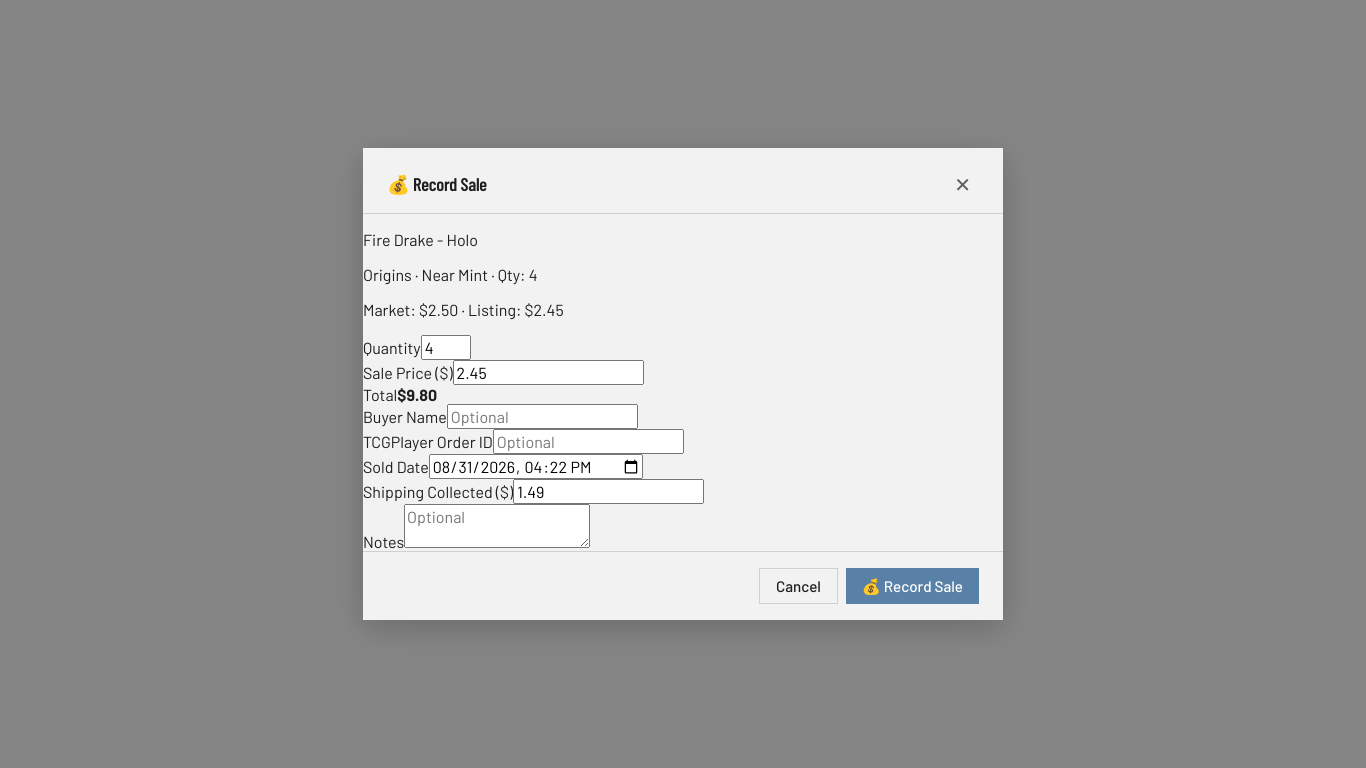
it: RecordSaleModal › validates price is greater than 0
The image size is (1366, 768).
Replace the text in the number field labelled "Sale Price ($)" with "0" at (548, 372), box [453,360,644,385]
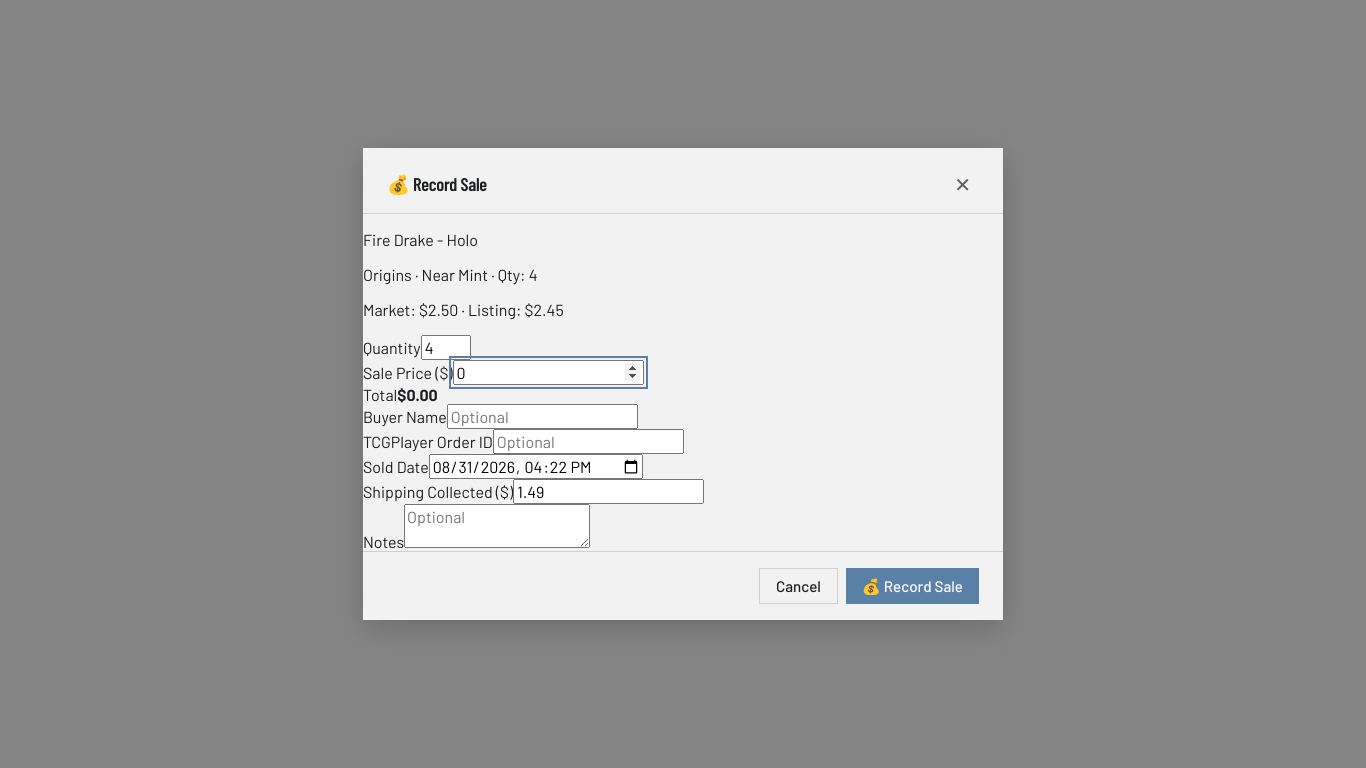
Click the button "💰 Record Sale" at (912, 586), box [846,568,979,604]
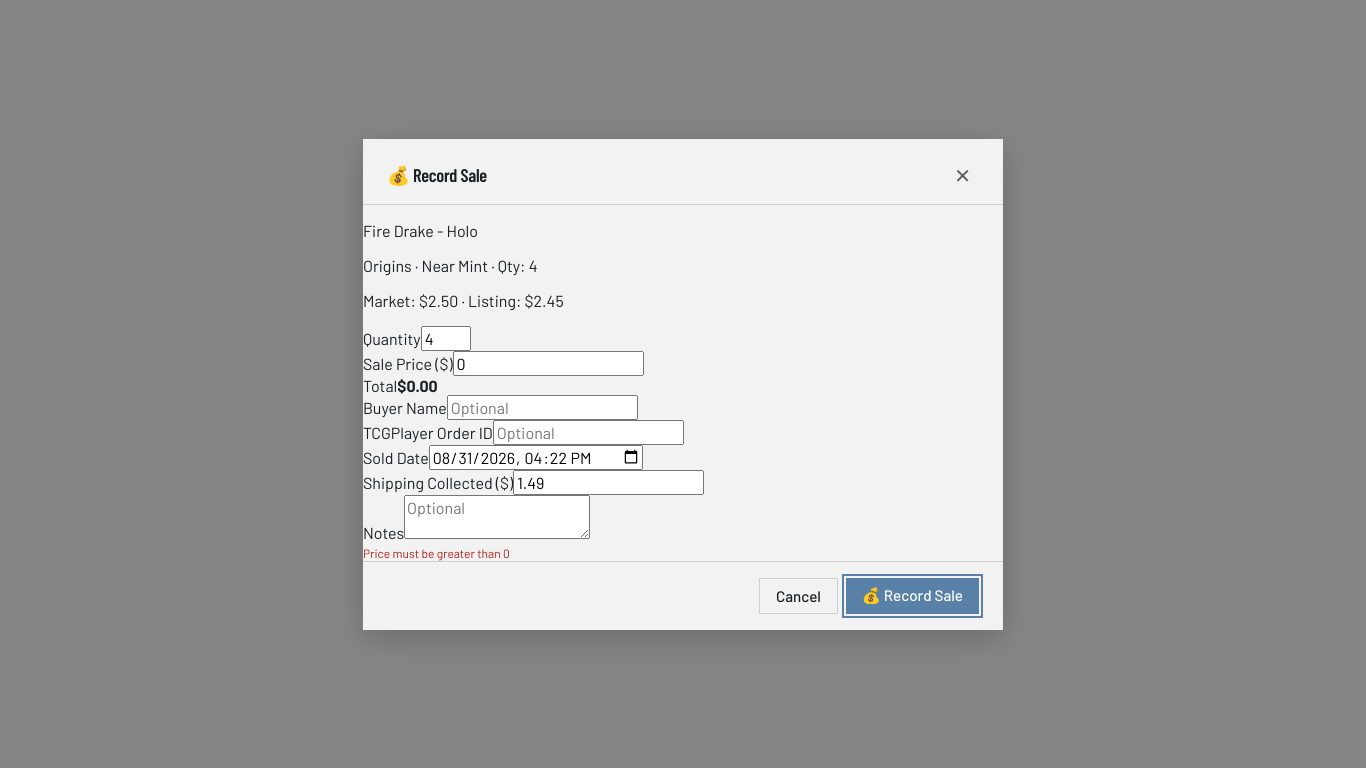
expect the text "Price must be greater than 0" is shown: met, box [363,546,510,560]
